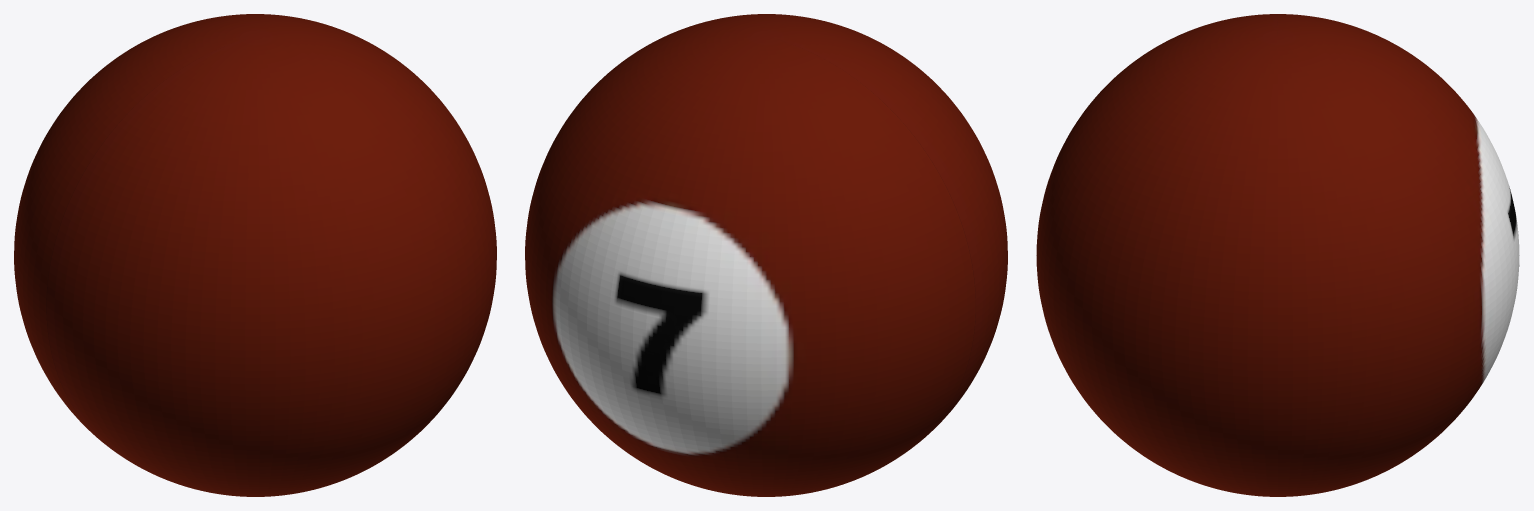
File: SevenBall.obj
3 views of the same model, side by side, from view 1: azimuth 30°, elevation 25°; view 2: azimuth 150°, elevation 25°; view 3: azimuth 270°, elevation 25° (orthographic).
Parts seen in each view (by area): view 1: Sphere; view 2: Sphere; view 3: Sphere.
Boxes of the visible parts, x1=… form: Sphere: x1=14, y1=14, x2=496, y2=496; Sphere: x1=525, y1=14, x2=1007, y2=496; Sphere: x1=1036, y1=14, x2=1519, y2=496.
Size of the model in its own units: 2 by 2 by 2.
